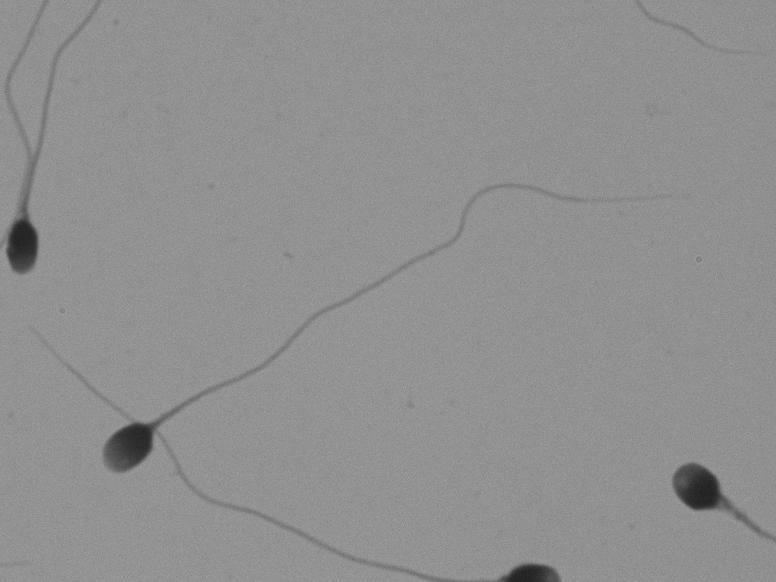Abnormal: (3, 20, 111, 296), (655, 399, 747, 554)
Normal: (72, 94, 667, 502)
